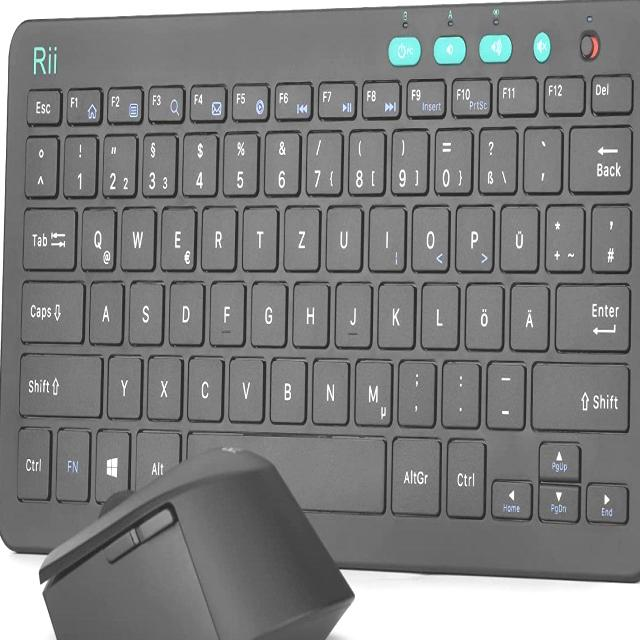0: (432, 123, 472, 193)
1: (62, 131, 96, 196)
2: (100, 129, 136, 195)
3: (139, 128, 176, 195)
4: (181, 128, 217, 195)
5: (221, 127, 258, 195)
6: (263, 126, 301, 194)
7: (304, 126, 342, 194)
8: (345, 125, 384, 193)
9: (388, 123, 428, 193)
a: (87, 275, 123, 342)
accent: (522, 120, 562, 191)
ae: (508, 278, 548, 350)
alt-left: (133, 425, 180, 488)
altgr-right: (389, 431, 441, 515)
b: (268, 352, 306, 422)
c: (185, 352, 223, 420)
caret: (23, 131, 57, 195)
comma: (395, 354, 435, 424)
d: (167, 275, 204, 345)
del: (567, 120, 633, 192)
e: (159, 201, 195, 269)
enter: (553, 277, 632, 351)
f: (208, 275, 244, 345)
g: (249, 276, 286, 346)
h: (291, 277, 328, 347)
hash: (589, 199, 631, 271)
i: (367, 199, 405, 269)
j: (333, 276, 371, 347)
k: (375, 276, 415, 347)
keyboard: (2, 42, 640, 574)
l: (418, 277, 458, 347)
m: (352, 353, 392, 425)
minus: (484, 356, 525, 427)
n: (310, 353, 349, 423)
o: (409, 200, 449, 270)
oe: (463, 279, 503, 349)
p: (453, 199, 494, 270)
plus: (543, 199, 584, 270)
point: (439, 354, 479, 424)
q: (79, 202, 115, 270)
r: (200, 201, 236, 269)
s: (127, 276, 163, 344)
shift-left: (17, 347, 104, 415)
shift-lock: (18, 275, 83, 341)
shift-right: (529, 356, 631, 431)
space: (185, 425, 386, 513)
ss: (476, 122, 516, 192)
strg-left: (14, 421, 50, 500)
strg-right: (444, 433, 485, 517)
t: (241, 201, 277, 269)
tab: (20, 201, 76, 269)
u: (324, 200, 362, 270)
ue: (498, 199, 538, 270)
v: (226, 351, 264, 421)
w: (119, 201, 155, 269)
x: (146, 350, 182, 418)
y: (105, 350, 141, 417)
z: (282, 200, 320, 270)
